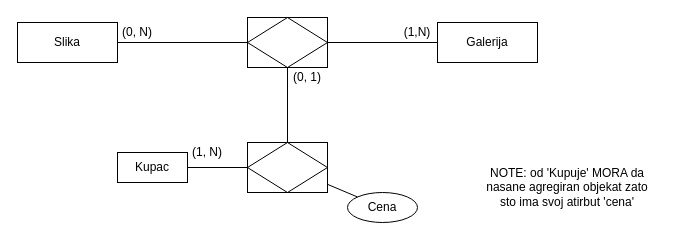
The diagram is 675 pixels wide and 250 high, and some of its shapes have lost their labels. The shapes that lost their labels are listed below. From the top down, each one's centre as x and y in pixels, then its label:
the point at 287,42: Izlozena
the point at 287,167: Kupuje
